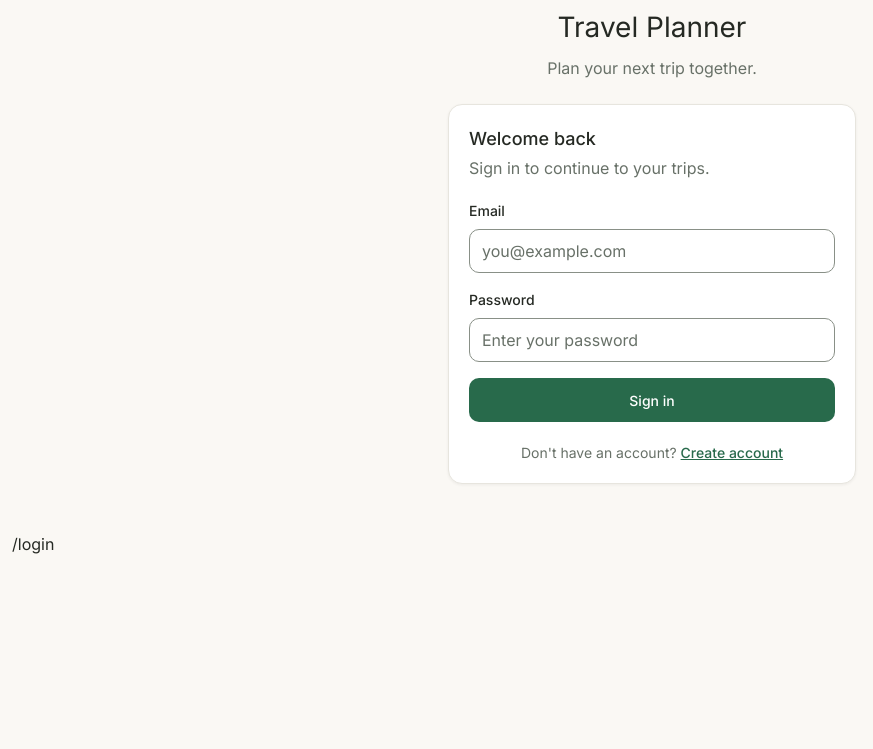
Scenario: navigates to registration from the login page
Expected: the heading "Welcome back" is shown, [469, 128, 596, 149]
Click the button "Create account" at (732, 452), box [681, 442, 783, 463]
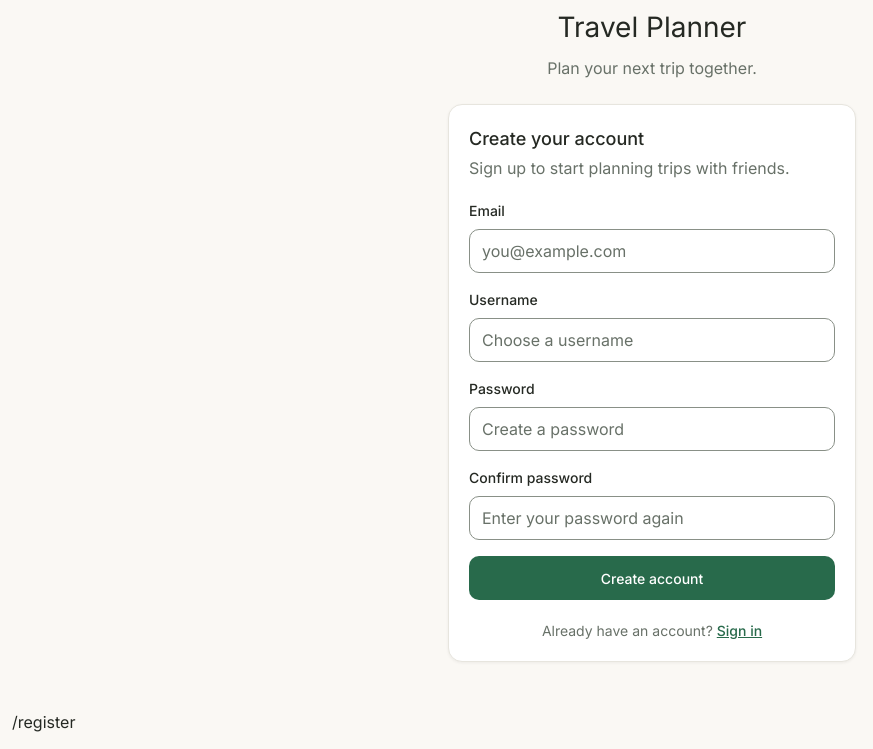
Now the heading "Create your account" is shown, box [469, 128, 644, 149]
Now the text named "Current path" reads "/register", box [12, 712, 75, 732]
